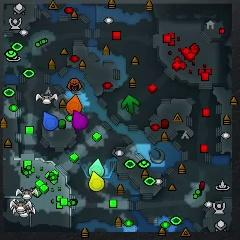p1: (44, 111, 59, 131)
p2Clone: (90, 158, 104, 177)
p3: (72, 111, 88, 130)
p4: (89, 171, 105, 191)
p5: (66, 95, 81, 113)
x4: (122, 96, 139, 114)
